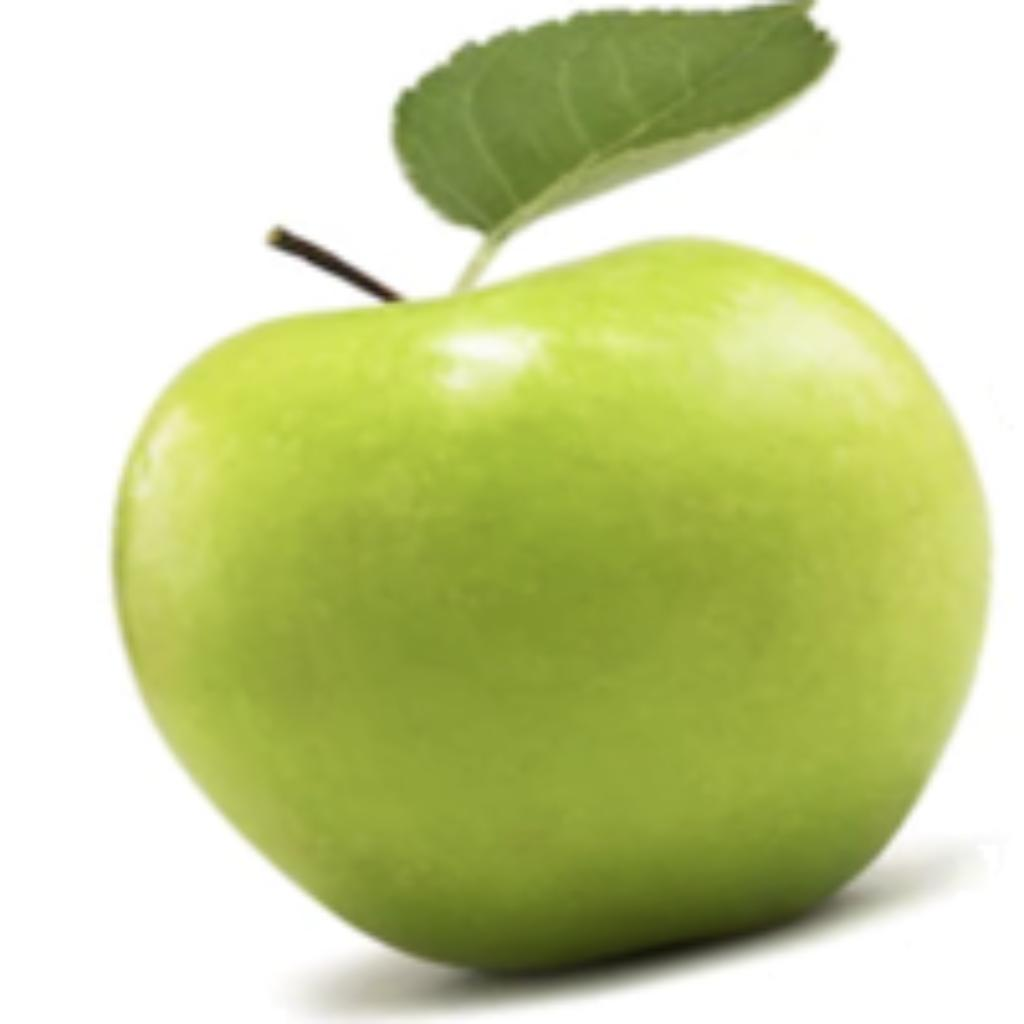apple: (102, 0, 998, 1019)
